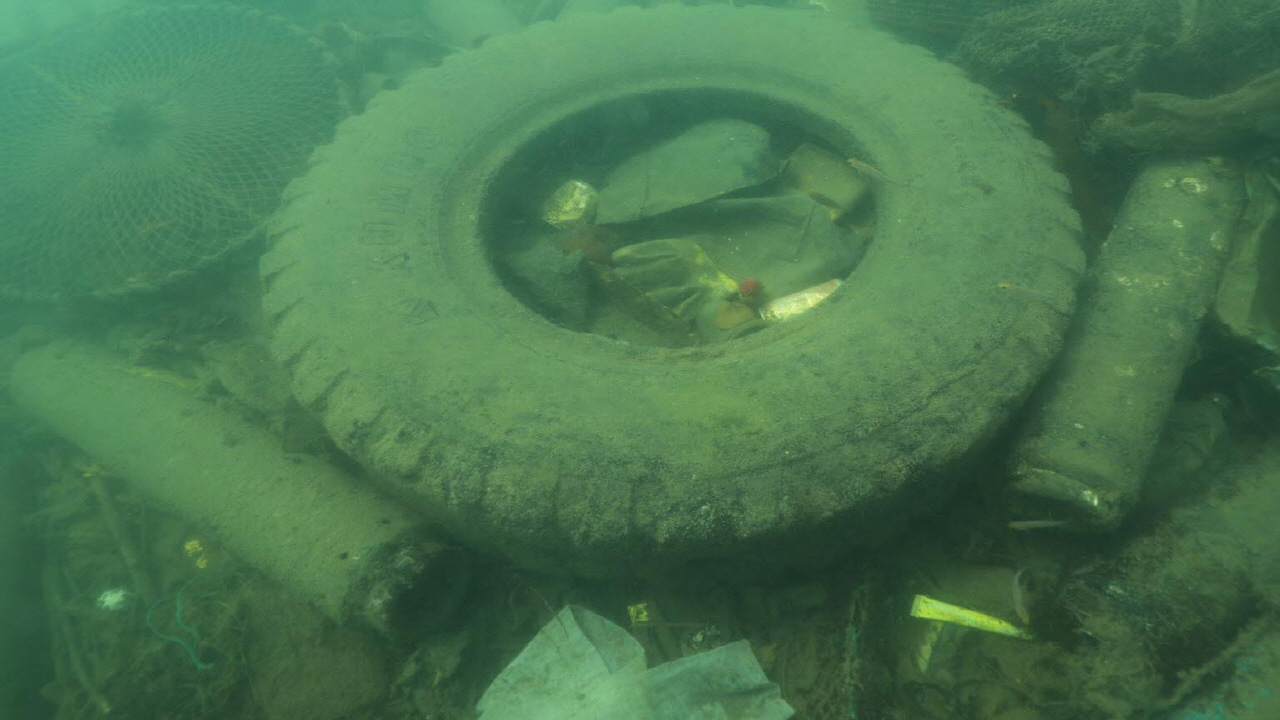circular fish trap: (0, 0, 354, 307)
eel fish trap: (260, 5, 1085, 595), (4, 338, 470, 648), (1004, 144, 1248, 538)
fish net: (948, 0, 1280, 75)
